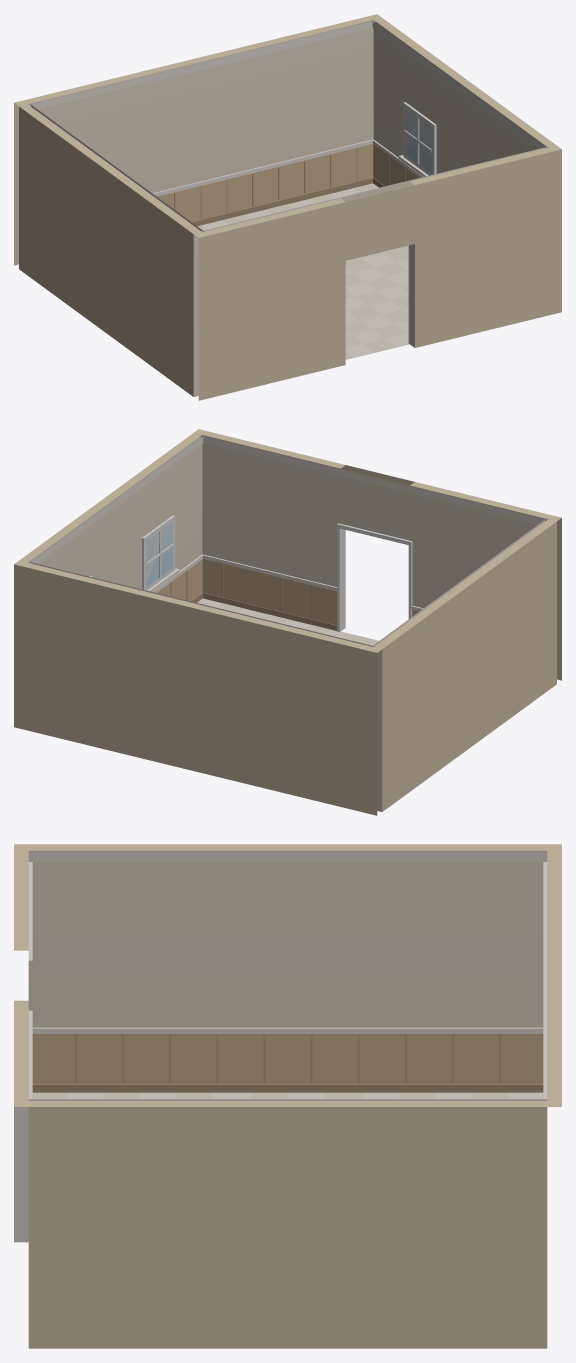
File: spbt_interior_shell.glb
3 views of the same model, one above another, from view 1: azimuth 30°, elevation 25°; view 2: azimuth 150°, elevation 25°; view 3: azimuth 270°, elevation 25° (orthographic). The views are drawn at different scales.
Parts seen in each view (by area): view 1: dinding_selatan, dinding_utara, dinding_barat, dinding_timur, lantai; view 2: dinding_utara, dinding_selatan, dinding_barat, dinding_timur, lantai; view 3: dinding_timur, dinding_barat, dinding_selatan, dinding_utara, lantai.
Part boxes in pixels (x1,y1,x2,y2): dinding_selatan: (193, 145, 561, 400); dinding_utara: (14, 14, 381, 265); dinding_barat: (19, 104, 203, 396); dinding_timur: (371, 18, 556, 187); lantai: (197, 183, 409, 359); dinding_utara: (14, 560, 382, 815); dinding_selatan: (194, 429, 561, 680); dinding_barat: (372, 519, 556, 811); dinding_timur: (19, 433, 204, 602); lantai: (197, 598, 378, 645); dinding_timur: (28, 1099, 547, 1348); dinding_barat: (28, 844, 547, 1092); dinding_selatan: (14, 844, 32, 1242); dinding_utara: (543, 844, 561, 1106); lantai: (32, 1092, 543, 1099).
Bounding box in the file's own units: 8.4 × 3.6 × 7.4.
